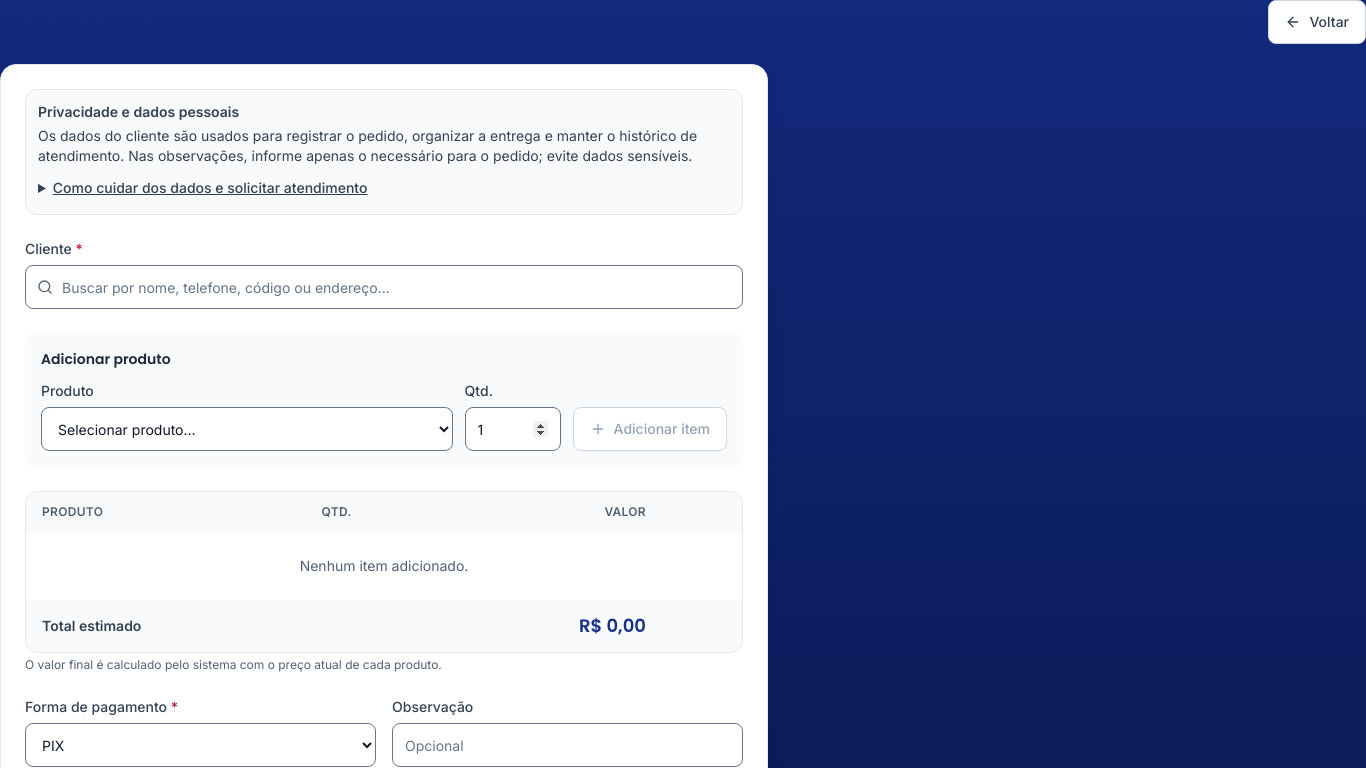
Test: Novo pedido › calcula o total estimado enquanto os itens são adicionados
Type "ana" into the dropdown with placeholder "Buscar por nome, telefone, código ou endereço…" at [384, 287], box [25, 265, 743, 309]
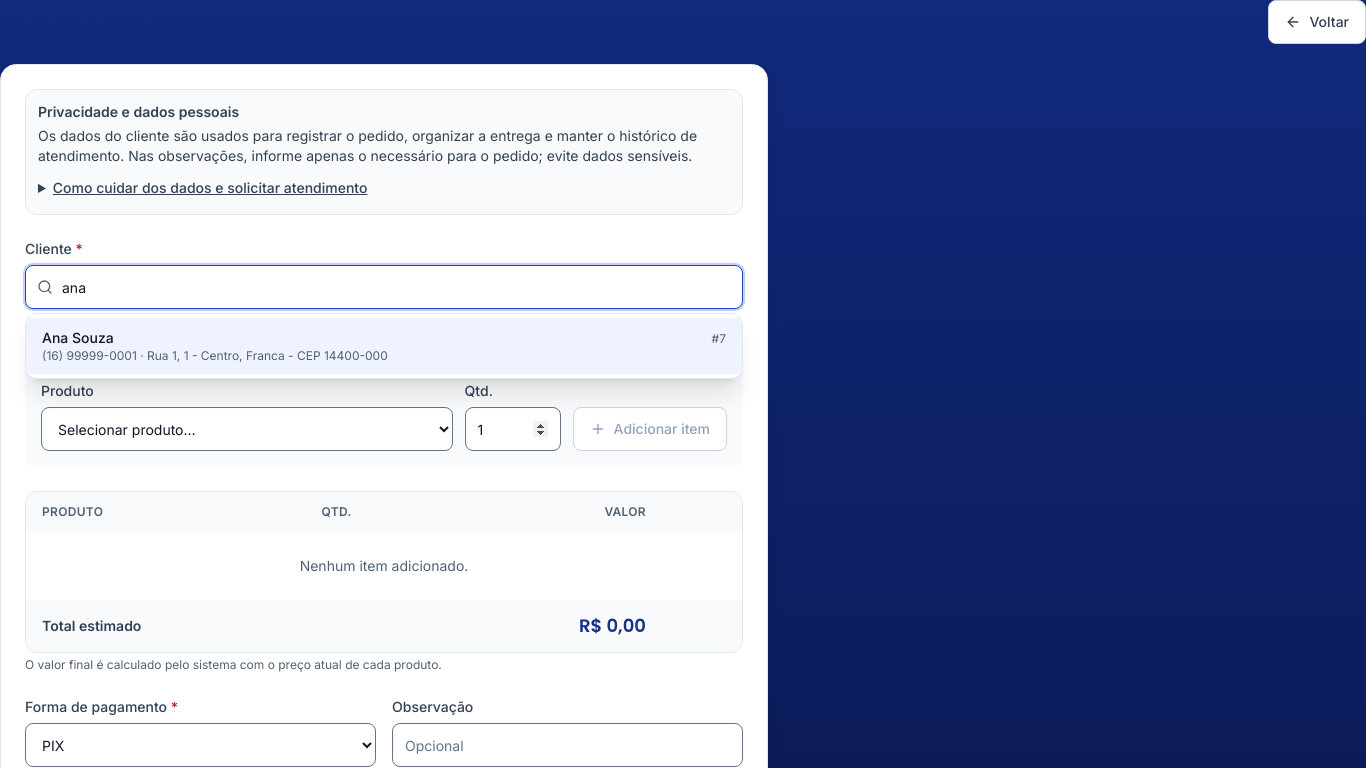
Click the option "Ana Souza" at [384, 346], box [26, 318, 742, 374]
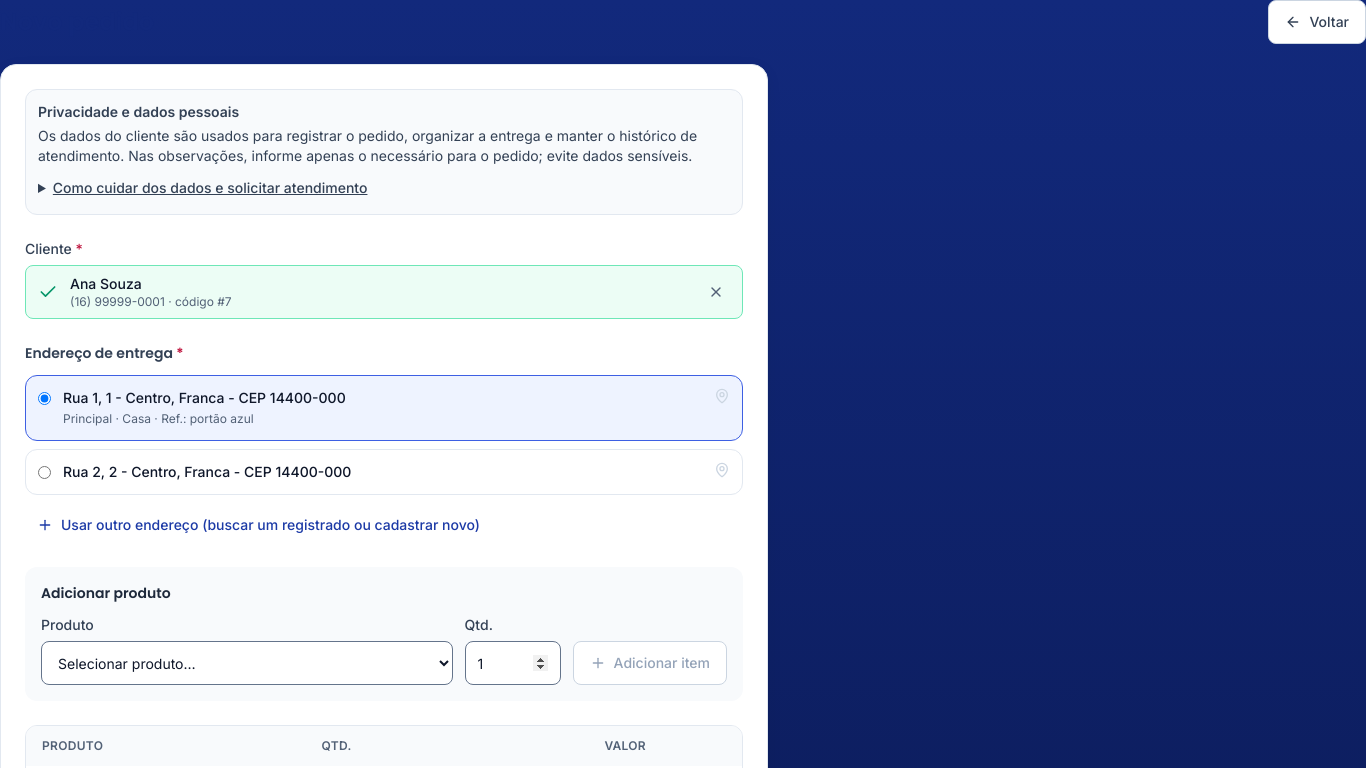
Check: the radio button labelled "Rua 1, 1" is shown, box [38, 392, 51, 405]
Select "Saco 50L · R$ 10,00 · estoque 100" in the dropdown labelled "Produto" at [247, 663], box [41, 641, 453, 685]
Replace the text in the number field labelled "Qtd." with "2" at [513, 663], box [465, 641, 561, 685]
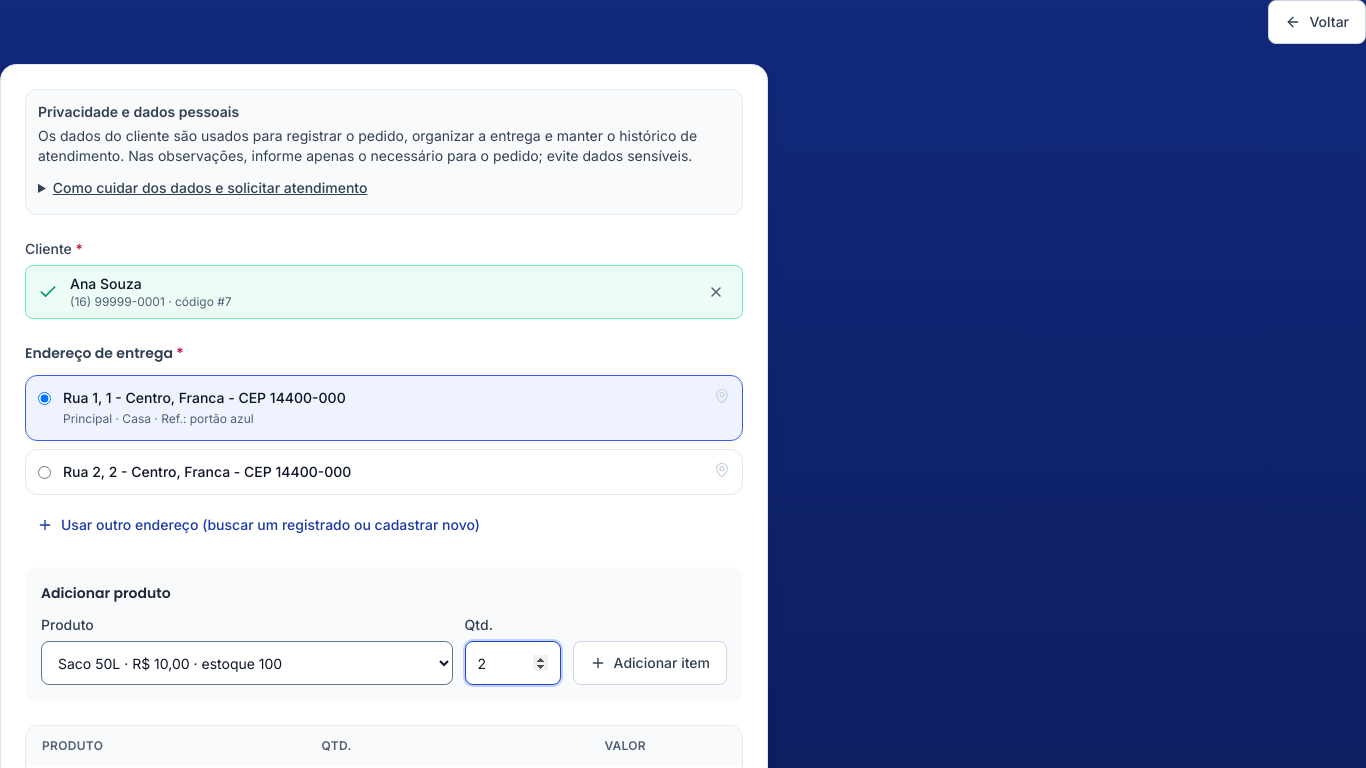
Click the button "Adicionar item" at [650, 663], box [573, 641, 727, 685]
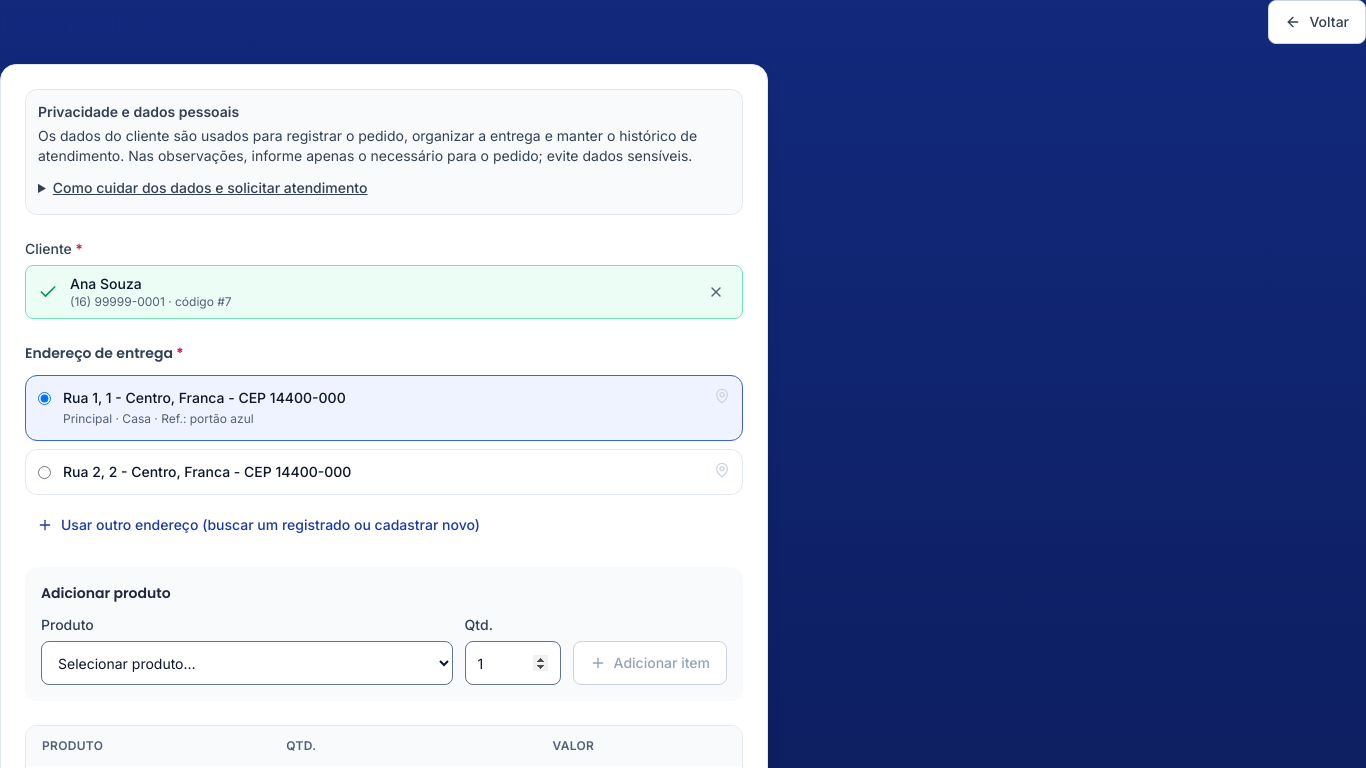
Select "Saco 100L · R$ 25,90 · estoque 20" in the dropdown labelled "Produto" at [247, 663], box [41, 641, 453, 685]
Replace the text in the number field labelled "Qtd." with "3" at [513, 663], box [465, 641, 561, 685]
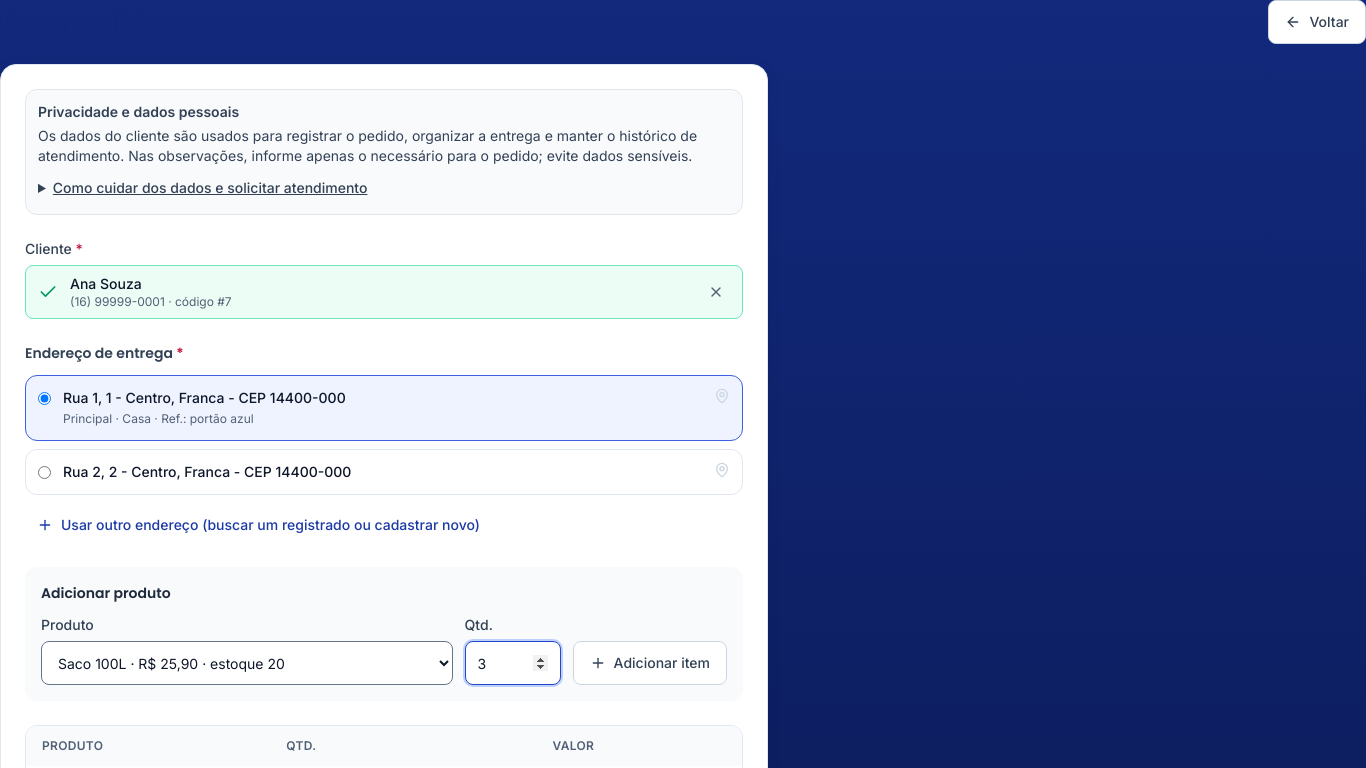
Click the button "Adicionar item" at [650, 663], box [573, 641, 727, 685]
(page scrolled)
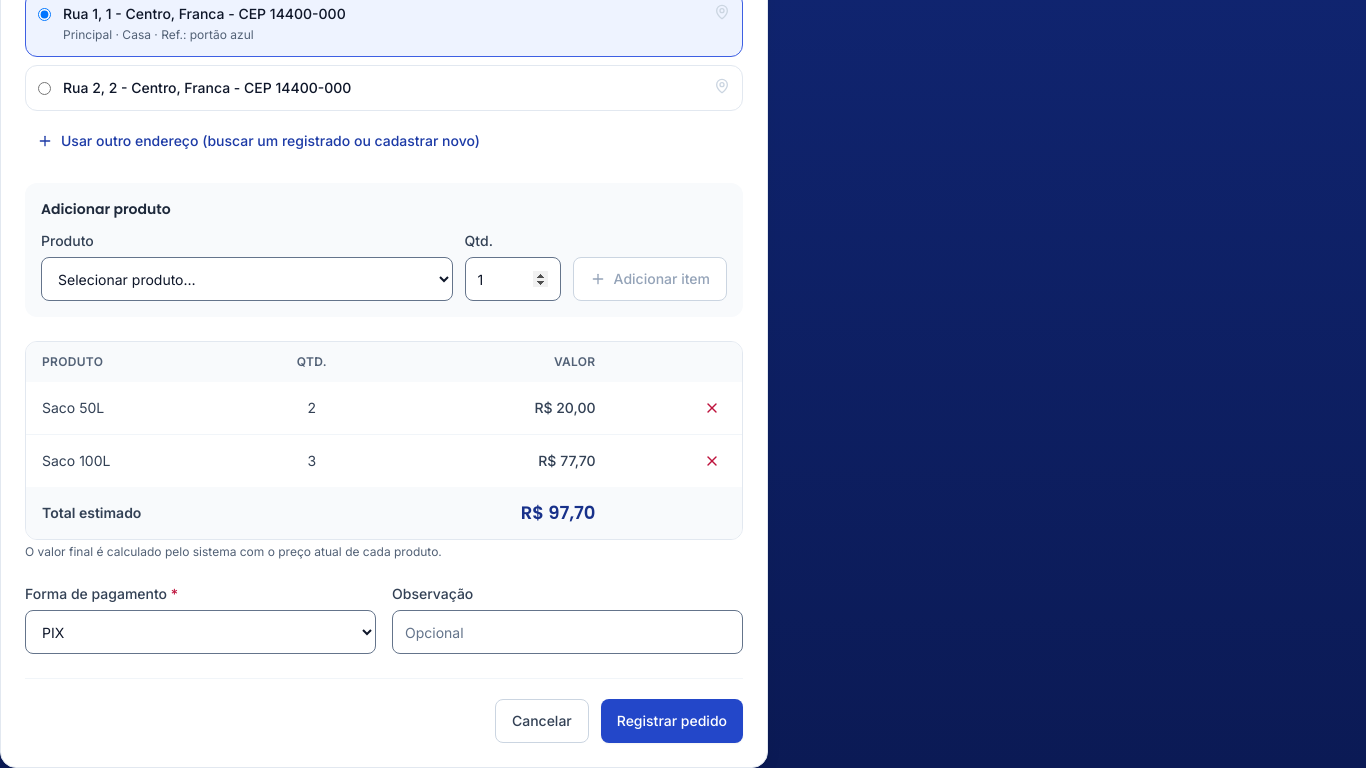
Check: the text "Saco 50L" is shown, box [26, 382, 244, 434]
Check: the text "R$ 20,00" is shown, box [379, 382, 612, 434]
Check: the text "R$ 77,70" is shown, box [379, 434, 612, 487]
